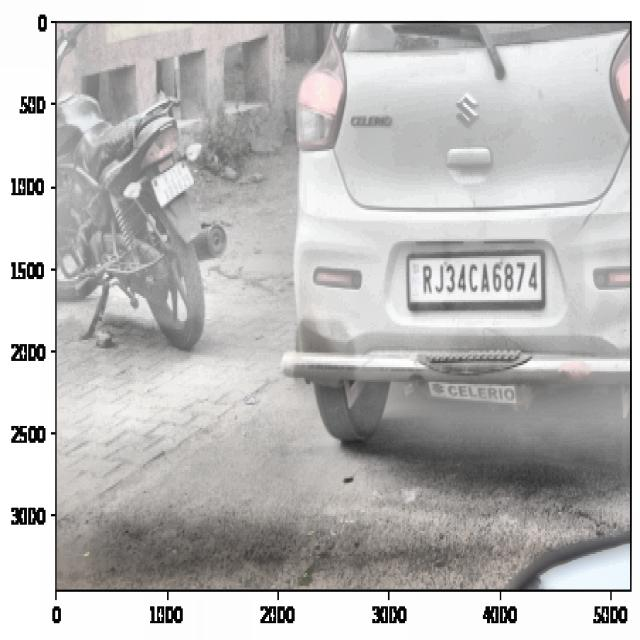license_plate: (418, 259, 543, 307)
